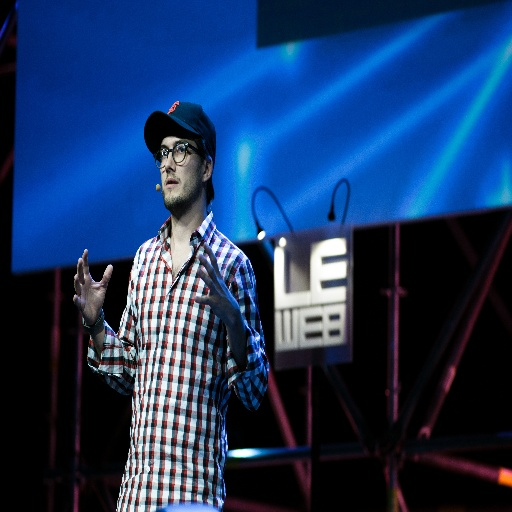hand: (193, 240, 240, 329), (70, 253, 117, 335)
